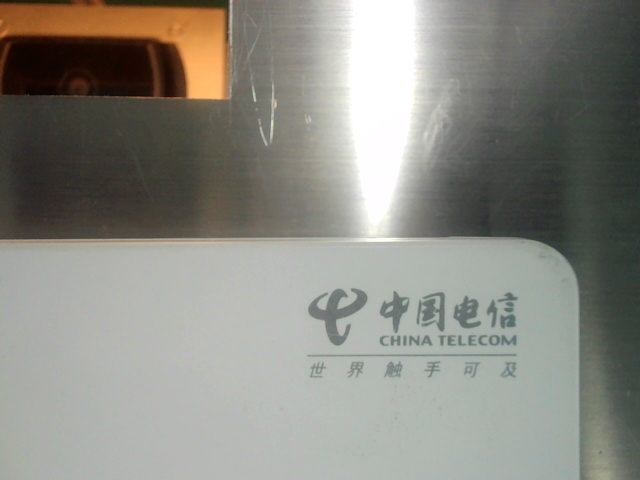AB_ChinaTelecom: (290, 280, 537, 386)
